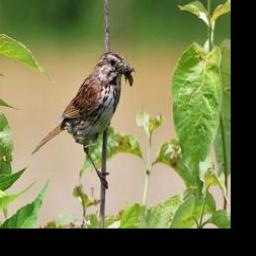Sparrow: (30, 51, 134, 188)
